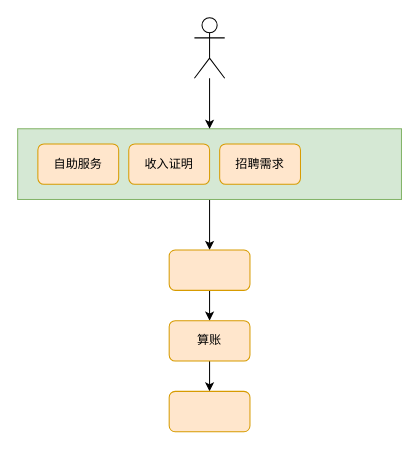
The diagram is 419 pixels wide and 449 high, and some of its shapes have lost their labels. Each missing label, with the centre of its shape:
结算: the point at 209,411
记账: the point at 209,269
